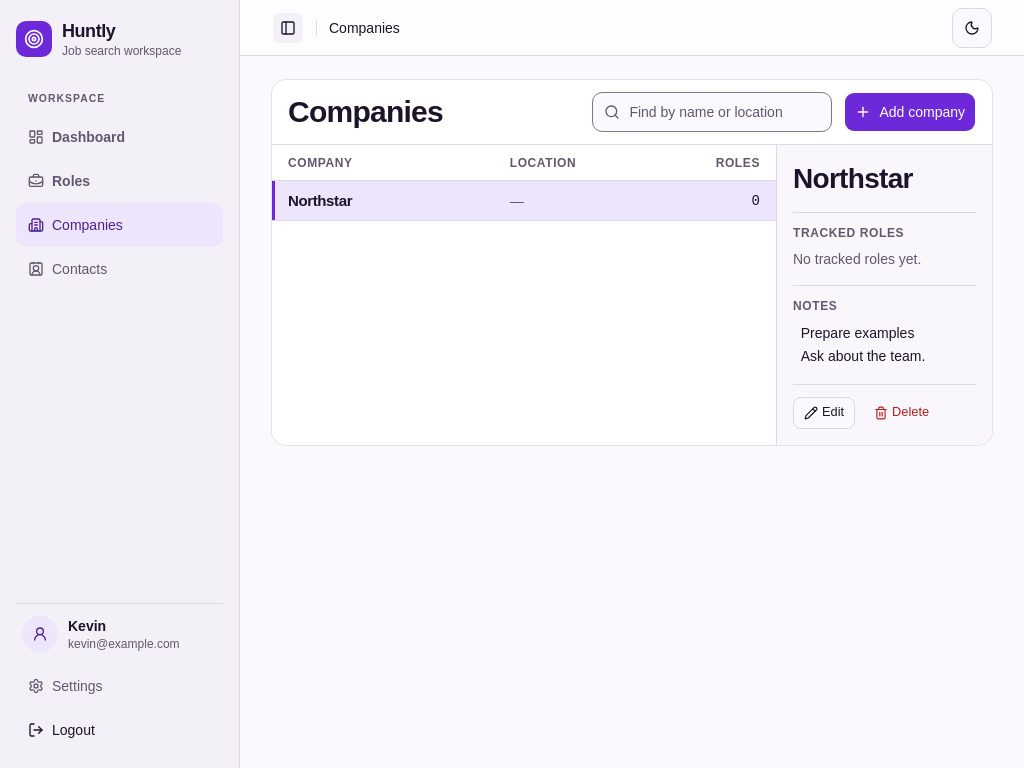
Scenario: preserves stored formatting on unchanged saves and location-only edits
The image size is (1024, 768).
Click the button with aria-label "Edit company" at (824, 412), box x1=793 y1=396 x2=855 y2=428
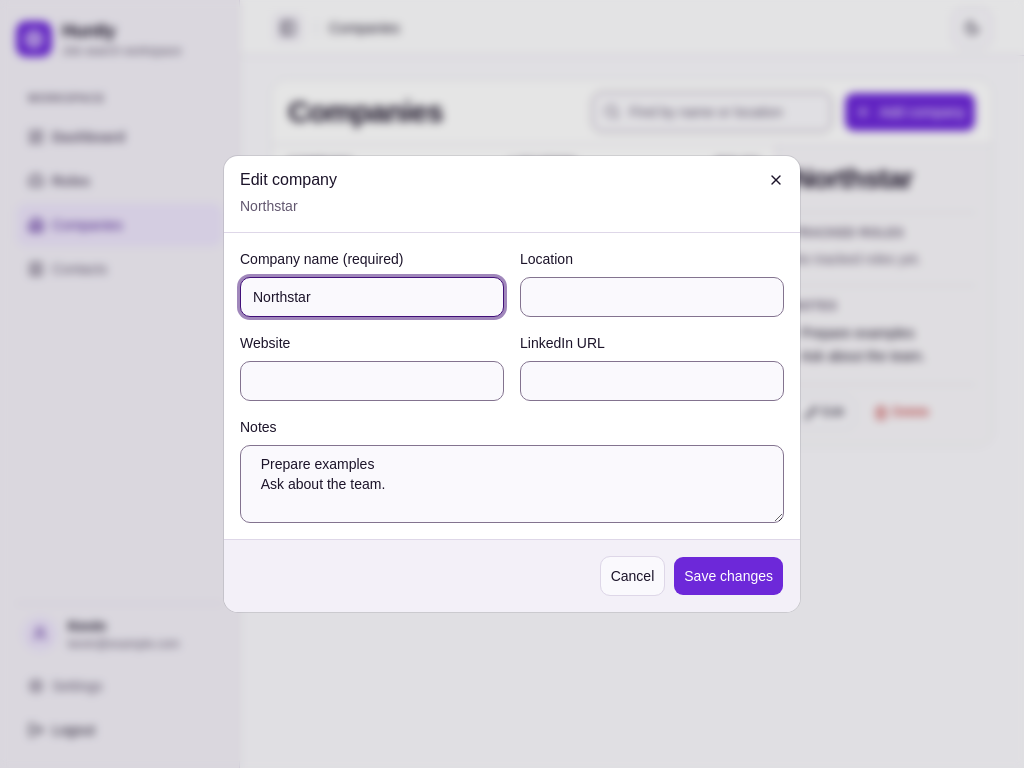
Click the button "Save changes" at (729, 576), box x1=673 y1=556 x2=784 y2=596
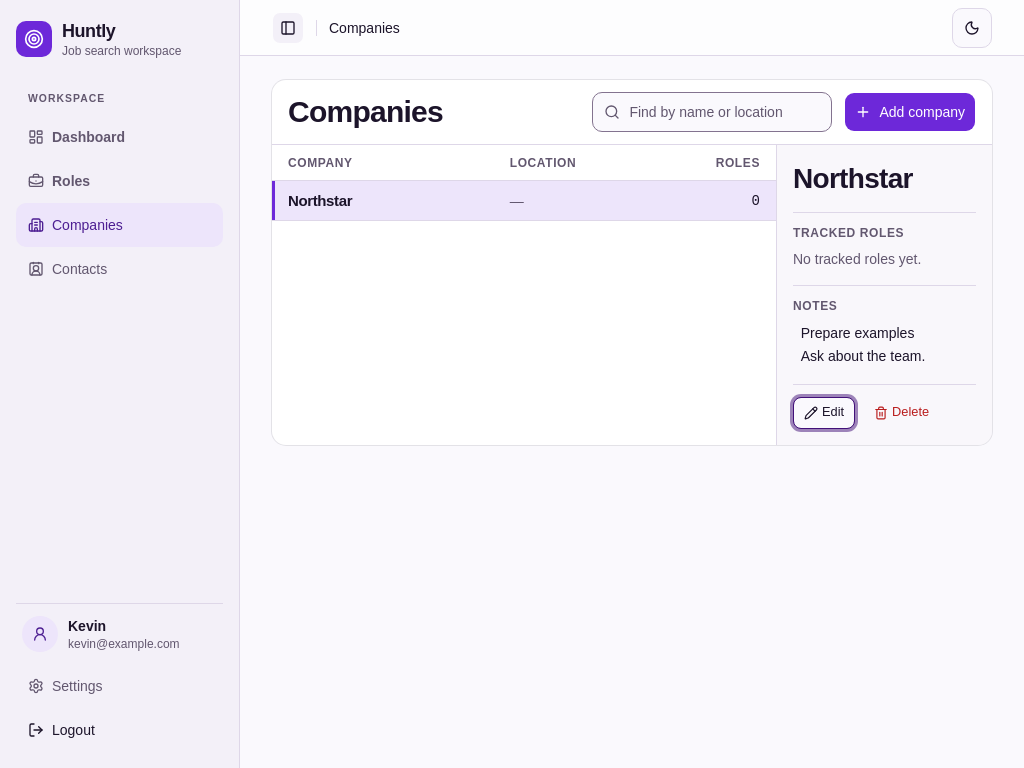
Expected: the dialog is gone
Click the button with aria-label "Edit company" at (824, 412), box x1=793 y1=396 x2=855 y2=428
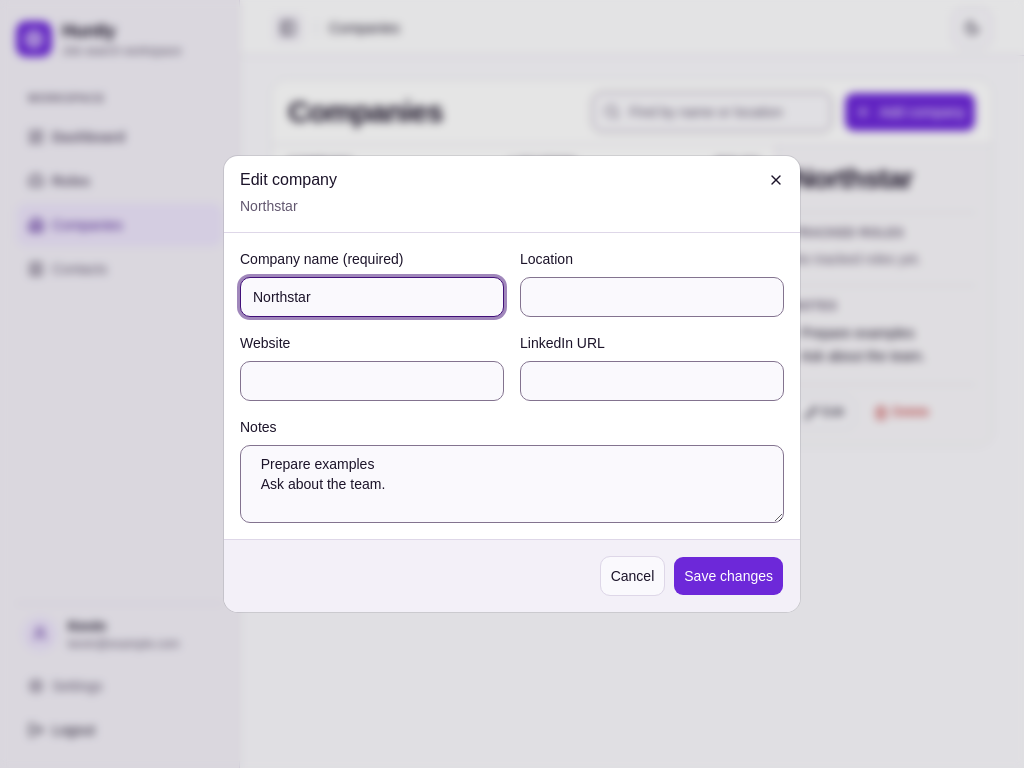
Type " Miami " into the field labelled "Location" at (652, 297), box x1=520 y1=277 x2=784 y2=317
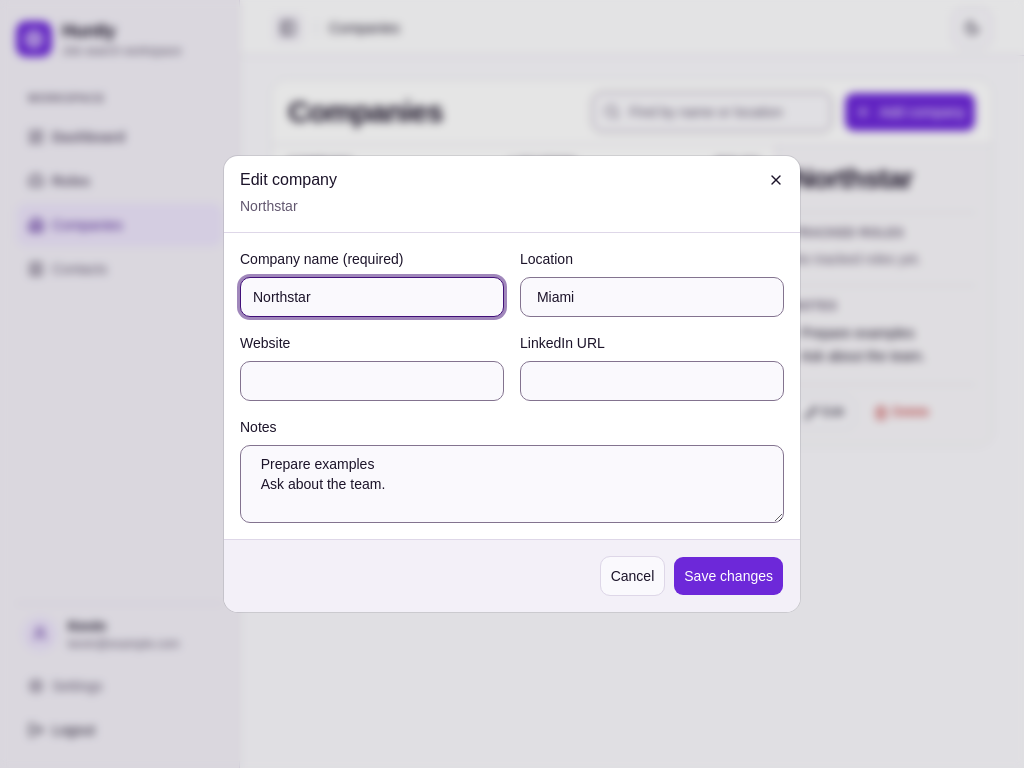
Click the button "Save changes" at (729, 576), box x1=673 y1=556 x2=784 y2=596
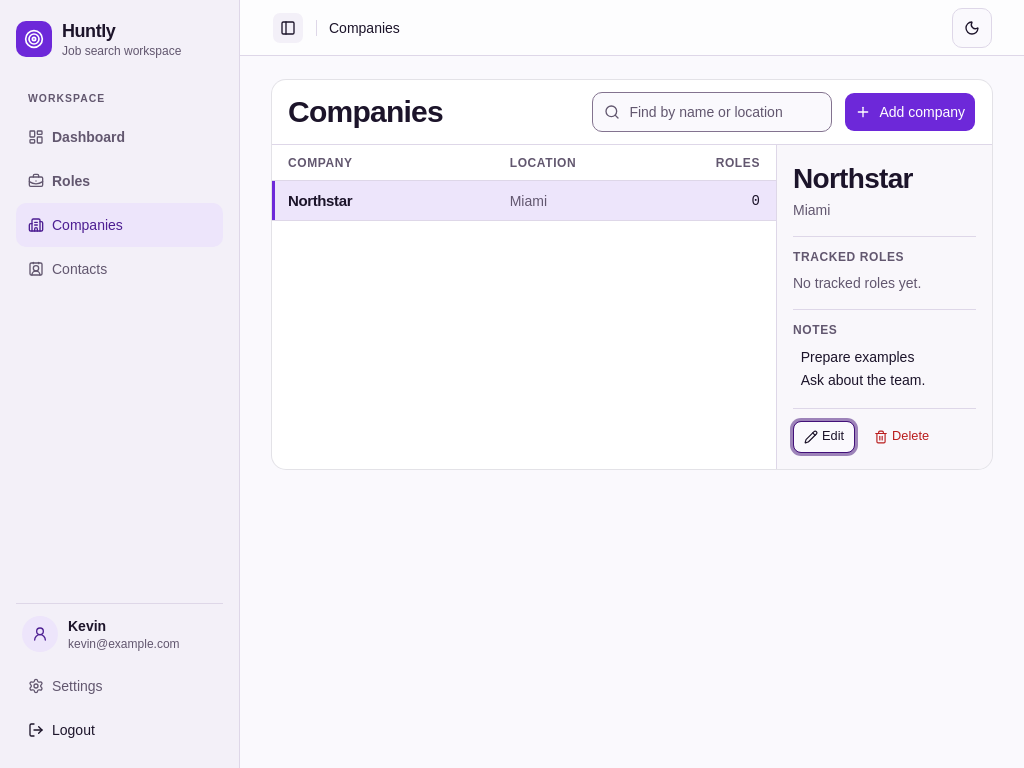
Expected: the dialog is gone
